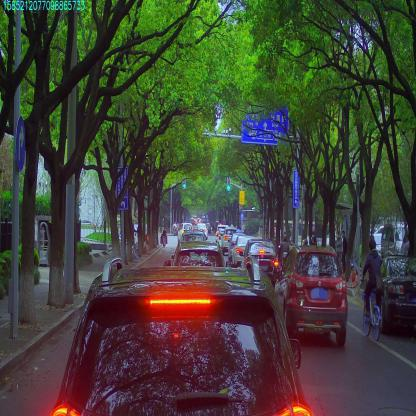traffic-light: (182, 178, 186, 188), (227, 177, 230, 190)
